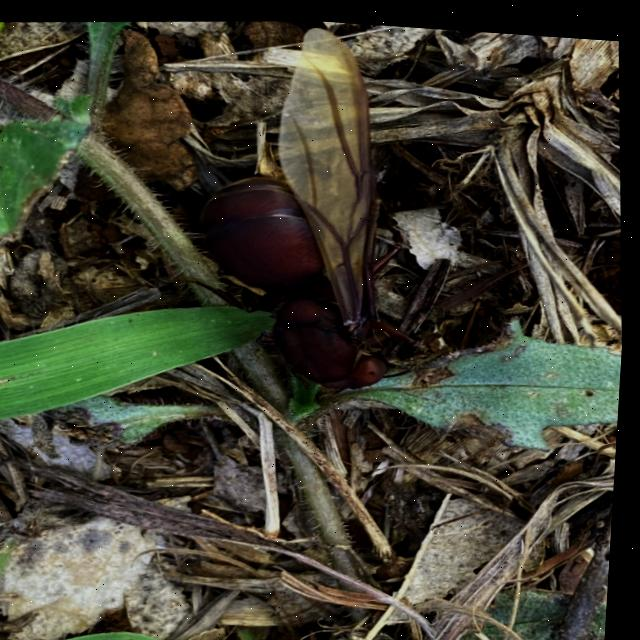Alive-Female-Alate: (155, 9, 452, 406)
